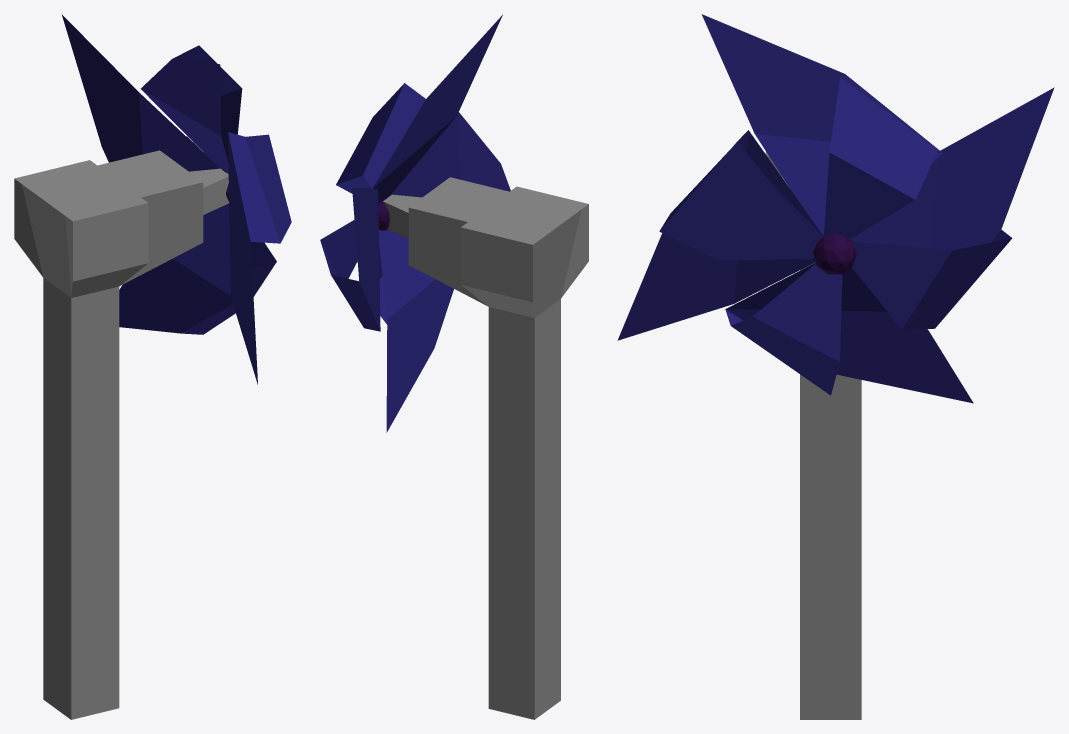
The model's file is Raven_Pinwheel.fbx.
3 renders of one model, left to right at view 1: azimuth 30°, elevation 25°; view 2: azimuth 150°, elevation 25°; view 3: azimuth 270°, elevation 25°, orthographic. The views are drawn at different scales.
Visible parts, largest first — view 1: Cube, Icosphere; view 2: Cube, Icosphere; view 3: Icosphere, Cube.
Part boxes in pixels (x1,y1,x2,y2): Cube: (14, 150, 229, 719); Icosphere: (61, 14, 291, 384); Cube: (383, 177, 588, 719); Icosphere: (320, 15, 510, 432); Icosphere: (617, 14, 1054, 403); Cube: (765, 151, 861, 719).
Bounding box in the file's own units: 47.75 × 148 × 79.83.
